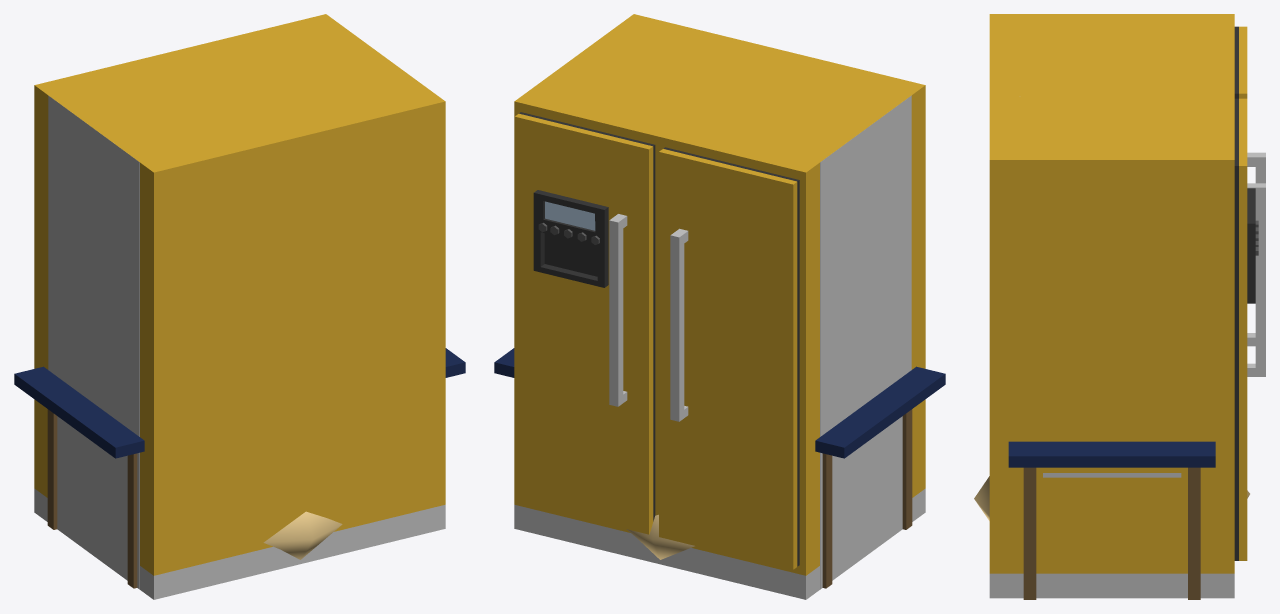
The model's file is FurnitureAssets_v01b.fbx.
3 renders of one model, left to right at view 1: azimuth 30°, elevation 25°; view 2: azimuth 150°, elevation 25°; view 3: azimuth 270°, elevation 25°, orthographic. The views are drawn at different scales.
Visible parts, largest first — view 1: Fridge_2.001, Office_shelf.001, Kitchen_table.001, pCube1; view 2: Fridge_2.001, Office_shelf.001, Kitchen_table.001, pCube1; view 3: Fridge_2.001, Kitchen_table.001, Office_table_2.001, pCube1.
Boxes of the visible parts, x1,y1,x2,y2 form: Fridge_2.001: [34, 14, 445, 599]; Office_shelf.001: [48, 95, 139, 589]; Kitchen_table.001: [14, 348, 465, 588]; pCube1: [263, 511, 342, 559]; Fridge_2.001: [514, 14, 925, 599]; Office_shelf.001: [820, 95, 911, 589]; Kitchen_table.001: [494, 348, 945, 588]; pCube1: [626, 514, 694, 559]; Fridge_2.001: [989, 14, 1265, 598]; Kitchen_table.001: [1008, 441, 1215, 599]; Office_table_2.001: [1043, 473, 1181, 477]; pCube1: [974, 476, 1249, 520].
Size of the model in its own units: 600 by 703 by 423.
1 material, 1 textured.
